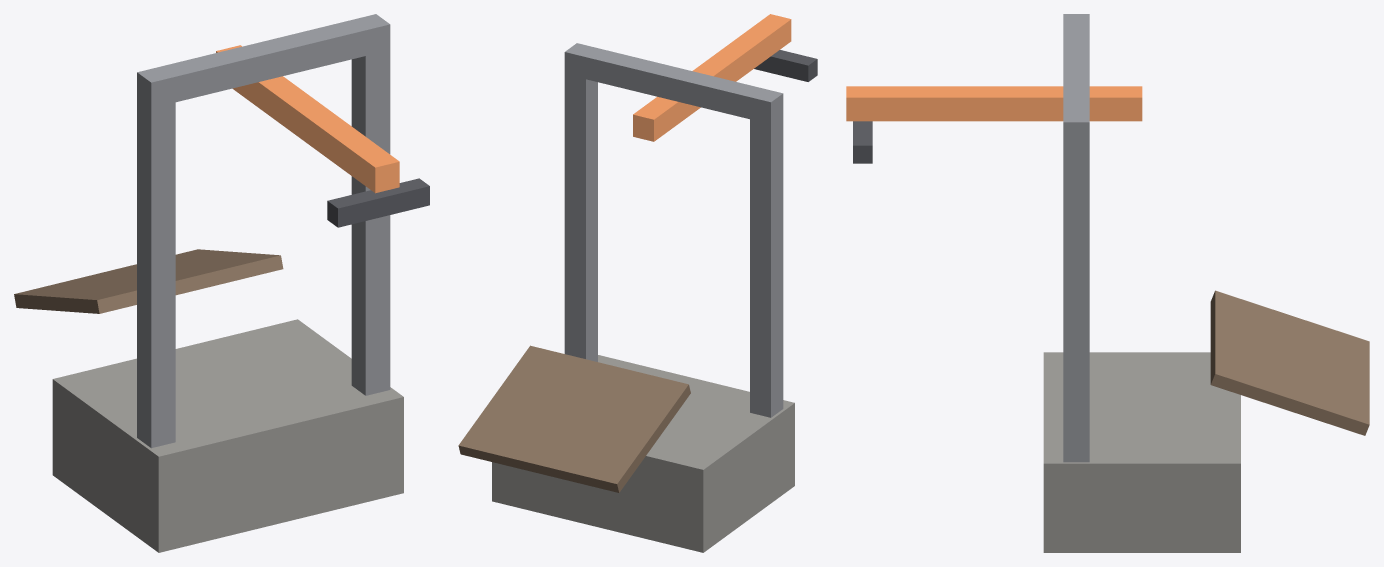
File: build_cart_unloader.glb
3 views of the same model, side by side, from view 1: azimuth 30°, elevation 25°; view 2: azimuth 150°, elevation 25°; view 3: azimuth 270°, elevation 25° (orthographic). The views are drawn at different scales.
Parts seen in each view (by area): view 1: Baked; view 2: Baked; view 3: Baked.
Boxes of the visible parts, x1,y1,x2,y2 form: Baked: [14, 14, 429, 552]; Baked: [458, 14, 817, 552]; Baked: [846, 14, 1369, 552].
Bounding box in the file's own units: 0.8 × 1.44 × 1.59.
